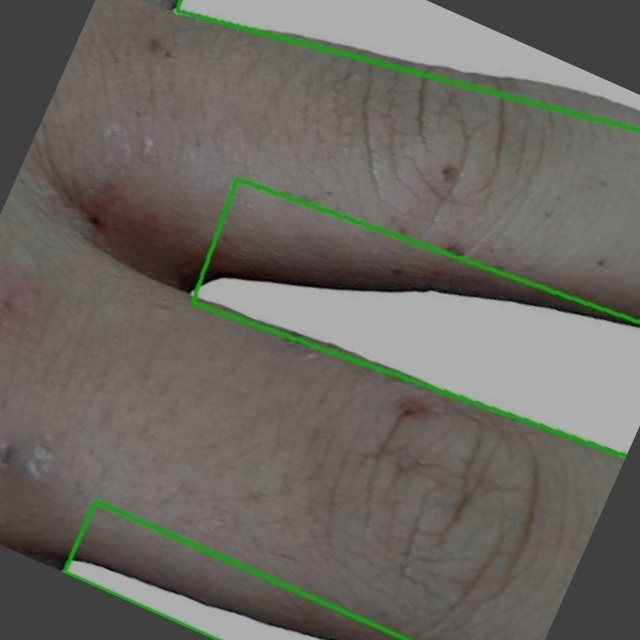Scabies: (193, 179, 639, 457), (176, 0, 639, 131)
